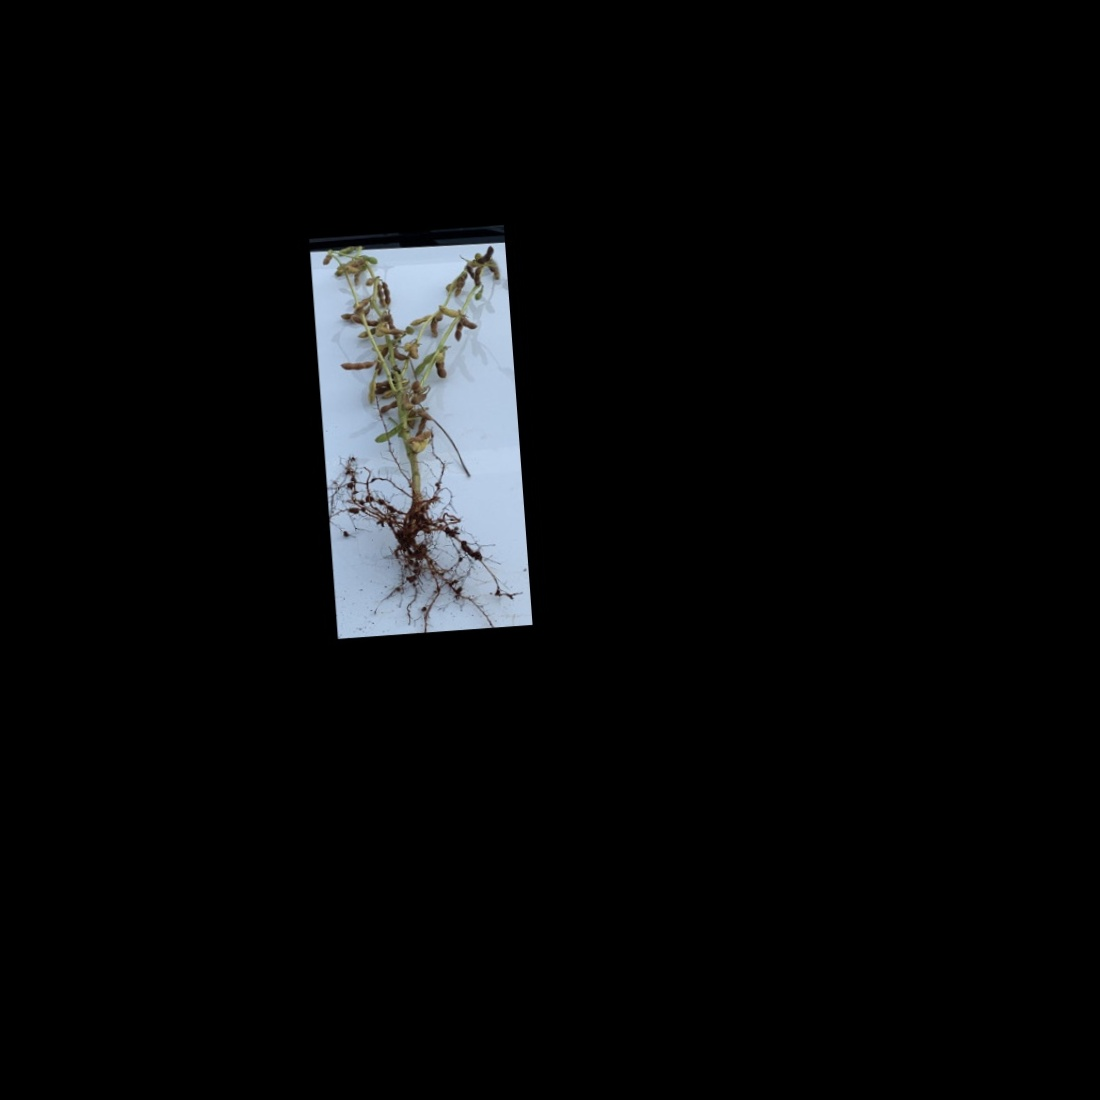pod: (371, 422, 405, 444), (337, 357, 381, 374), (407, 352, 436, 377), (455, 312, 482, 331), (376, 398, 400, 418), (379, 278, 393, 307), (407, 313, 434, 328), (333, 244, 359, 258)
soy: (315, 229, 527, 631)
